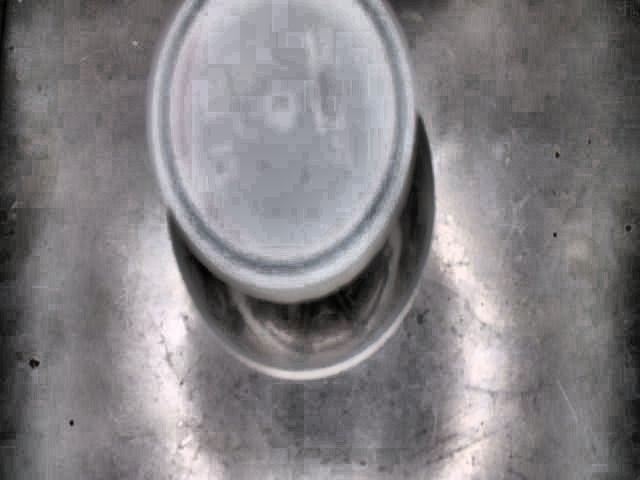Plastic: (149, 0, 439, 375)
